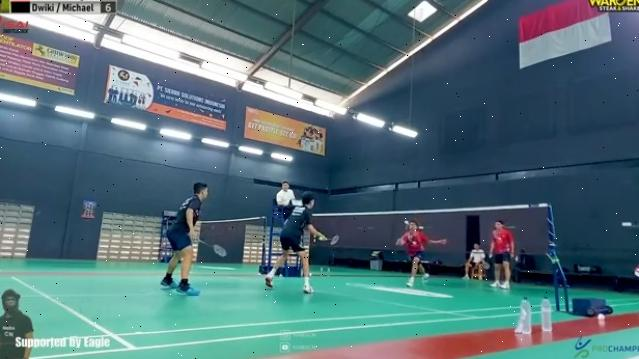Shuttlecock: (404, 217, 412, 227)
